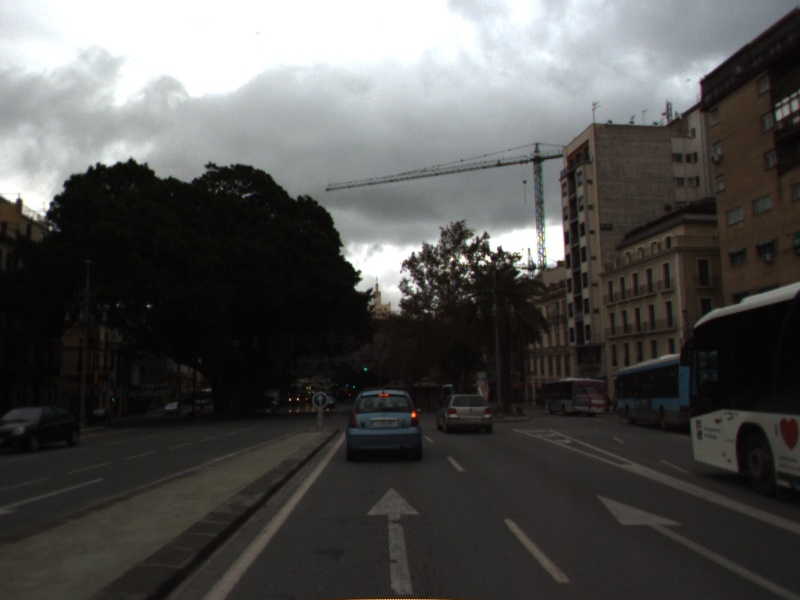STRAIGHT: (591, 490, 800, 600), (363, 483, 424, 600)
